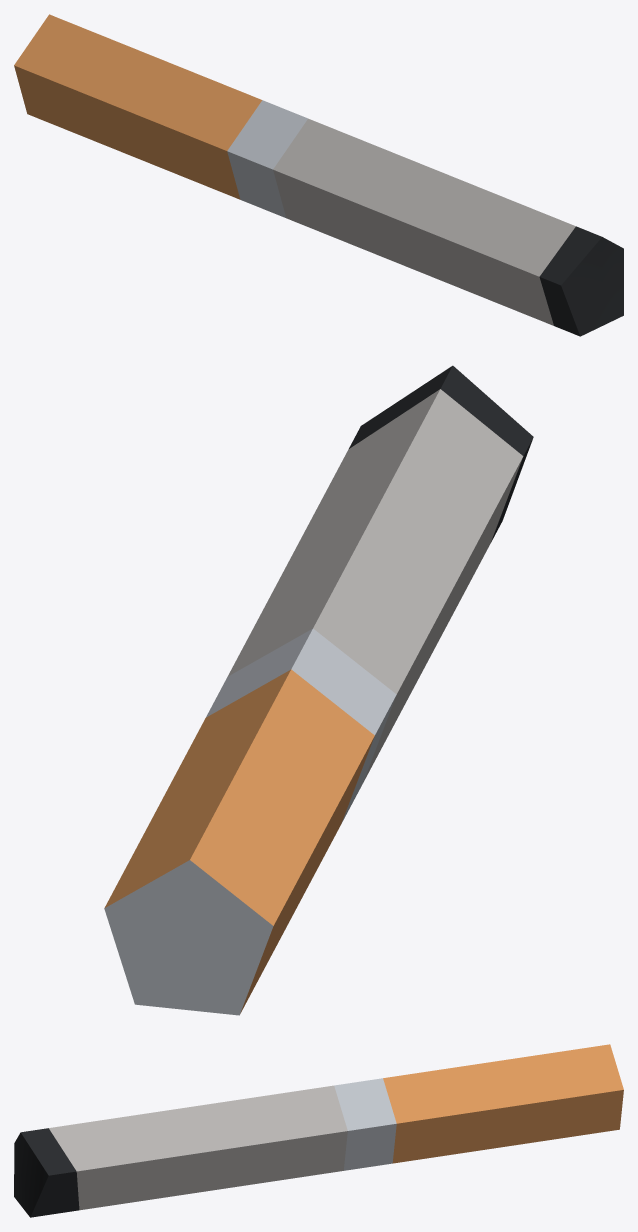
The model's file is SM_Item_Cigarette_01.fbx.
3 renders of one model, top to bottom at view 1: azimuth 30°, elevation 25°; view 2: azimuth 150°, elevation 25°; view 3: azimuth 270°, elevation 25°, orthographic. The views are drawn at different scales.
Parts seen in each view (by area): view 1: SM_Item_Cigarette_01; view 2: SM_Item_Cigarette_01; view 3: SM_Item_Cigarette_01.
Boxes of the visible parts, left/top/right/bottom form: SM_Item_Cigarette_01: left=14, top=14, right=623, bottom=336; SM_Item_Cigarette_01: left=104, top=365, right=533, bottom=1015; SM_Item_Cigarette_01: left=14, top=1044, right=623, bottom=1217.
Bounding box in the file's own units: 5.05 × 1.74 × 11.57.
